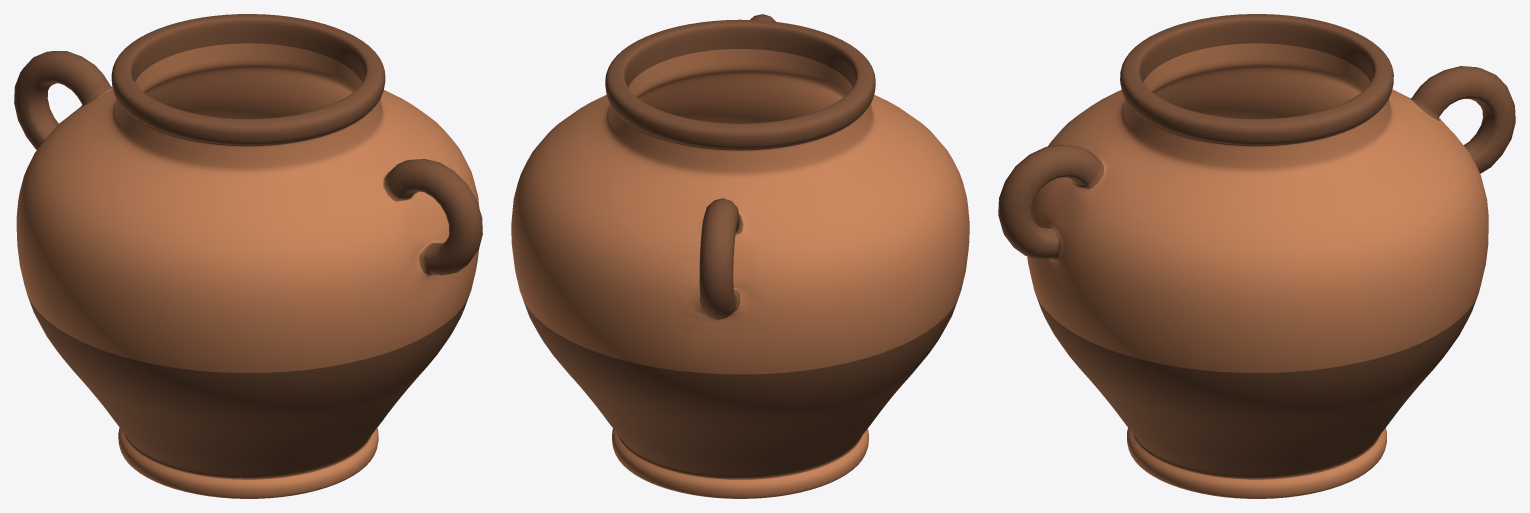
The model's file is Pot.fbx.
3 views of the same model, side by side, from view 1: azimuth 30°, elevation 25°; view 2: azimuth 150°, elevation 25°; view 3: azimuth 270°, elevation 25° (orthographic).
Visible parts, largest first — view 1: Pot; view 2: Pot; view 3: Pot.
Part boxes in pixels (bbox=[...]): Pot: bbox=[14, 14, 482, 498]; Pot: bbox=[511, 14, 969, 498]; Pot: bbox=[998, 14, 1515, 498].
Bounding box in the file's own units: 31.85 × 28.66 × 35.55.
